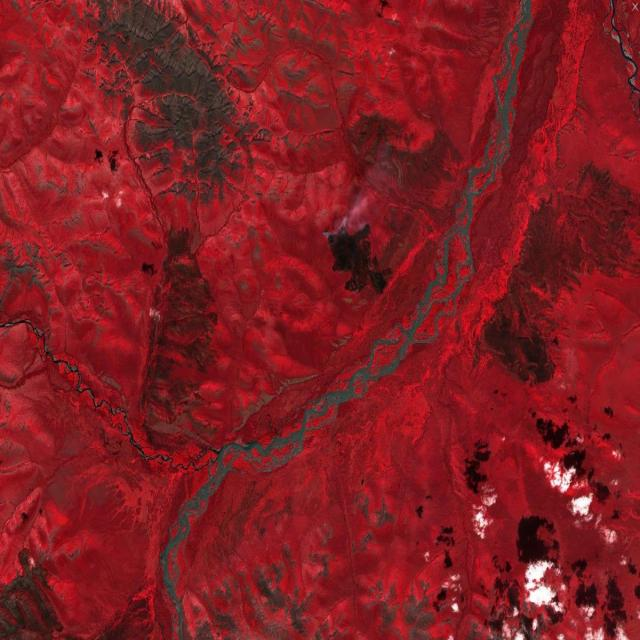fire: (319, 211, 352, 261)
